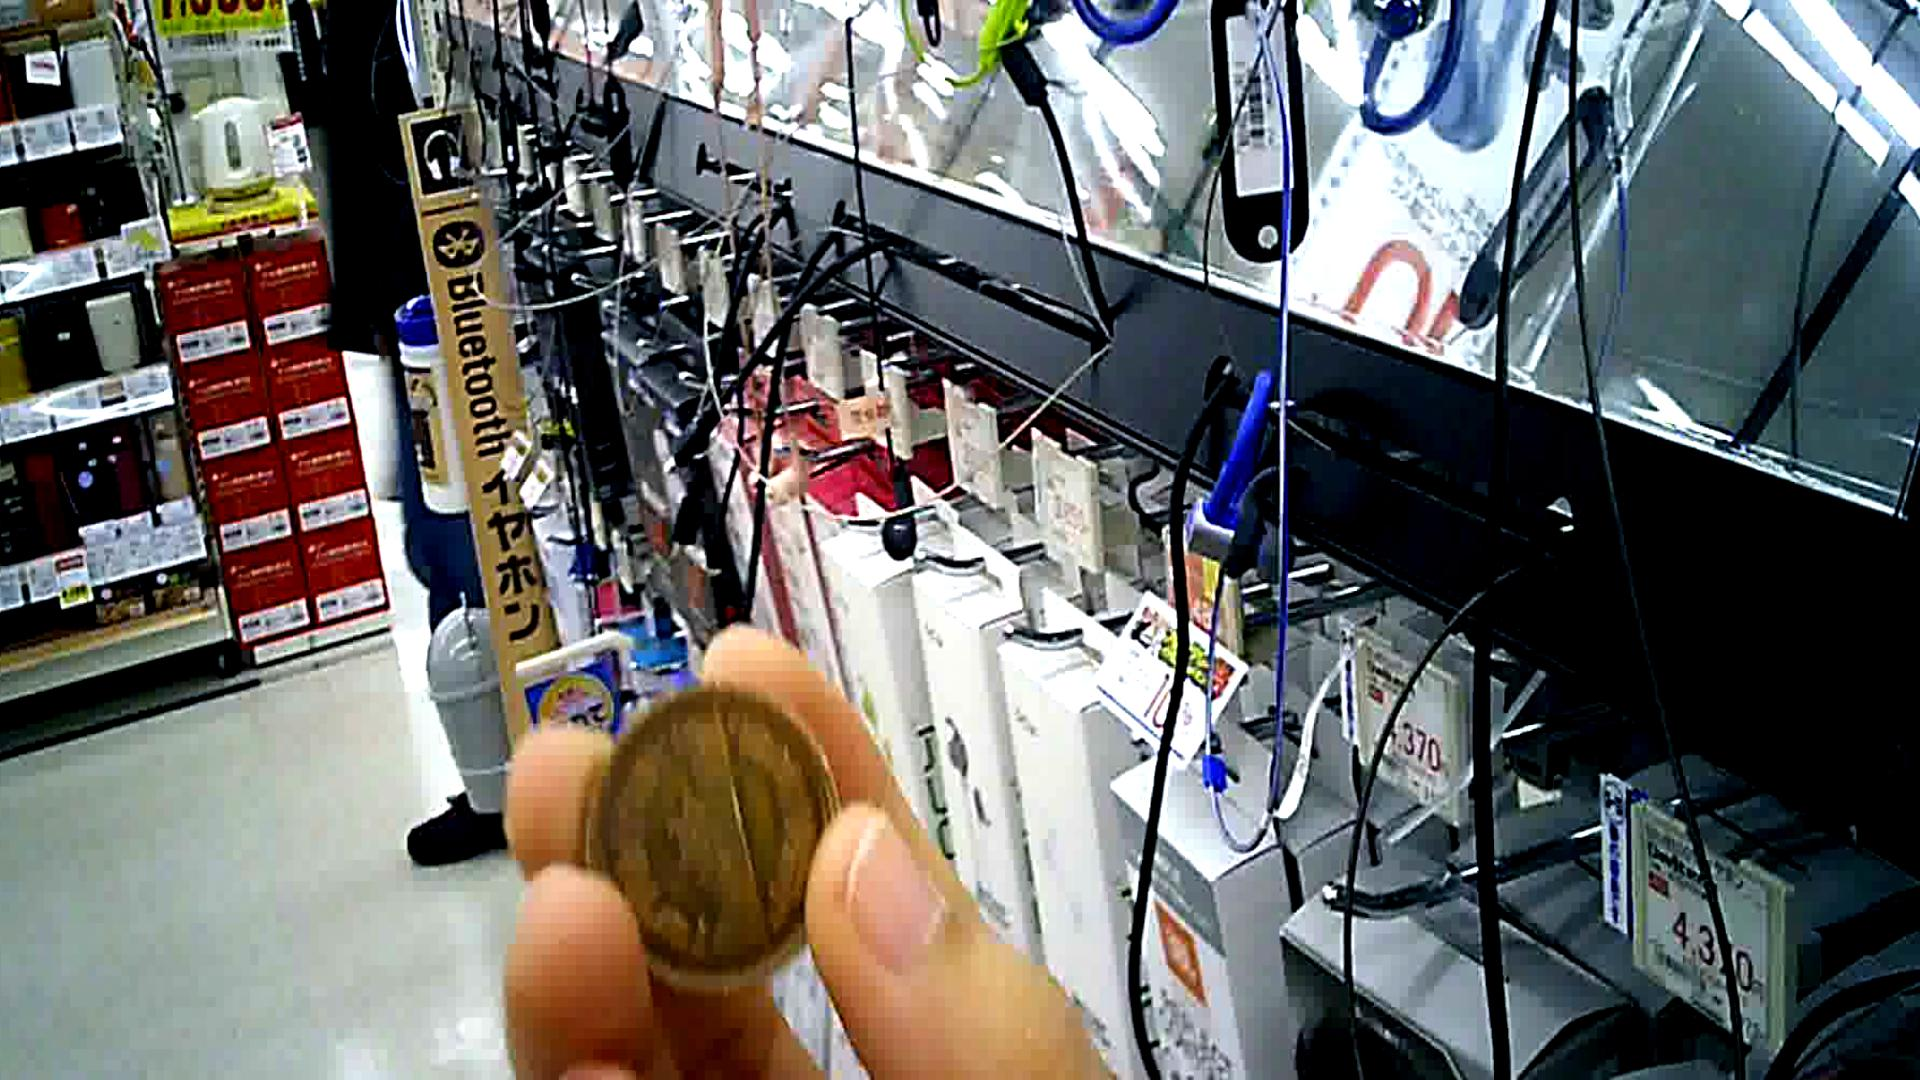10 Yen: (574, 676, 856, 992)
